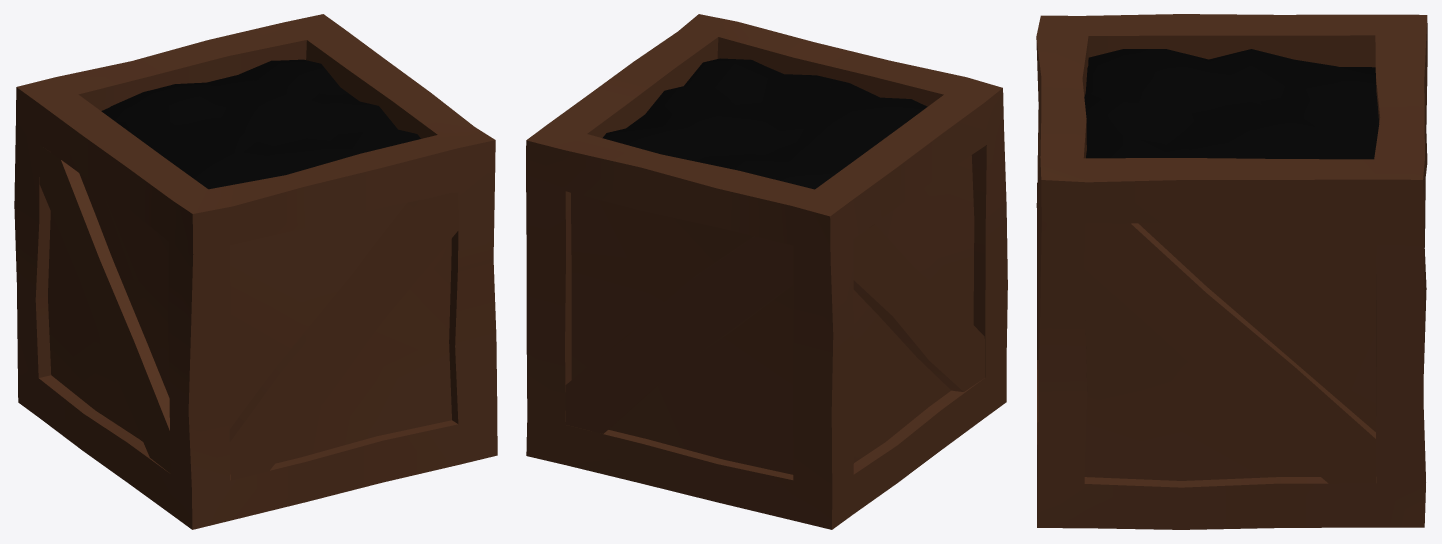
File: crate_2.fbx
3 renders of one model, left to right at view 1: azimuth 30°, elevation 25°; view 2: azimuth 150°, elevation 25°; view 3: azimuth 270°, elevation 25°, orthographic. The views are drawn at different scales.
Visible parts, largest first — view 1: Cube.010; view 2: Cube.010; view 3: Cube.010.
Boxes of the visible parts, <box> form: Cube.010: <box>14,14,497,529</box>; Cube.010: <box>526,14,1007,529</box>; Cube.010: <box>1036,14,1427,529</box>.
Size of the model in its own units: 228 by 225 by 227.
